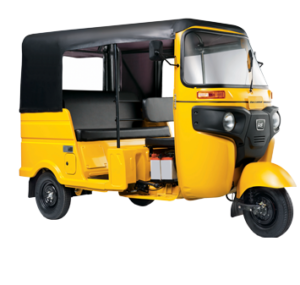auto: (16, 17, 294, 241)
